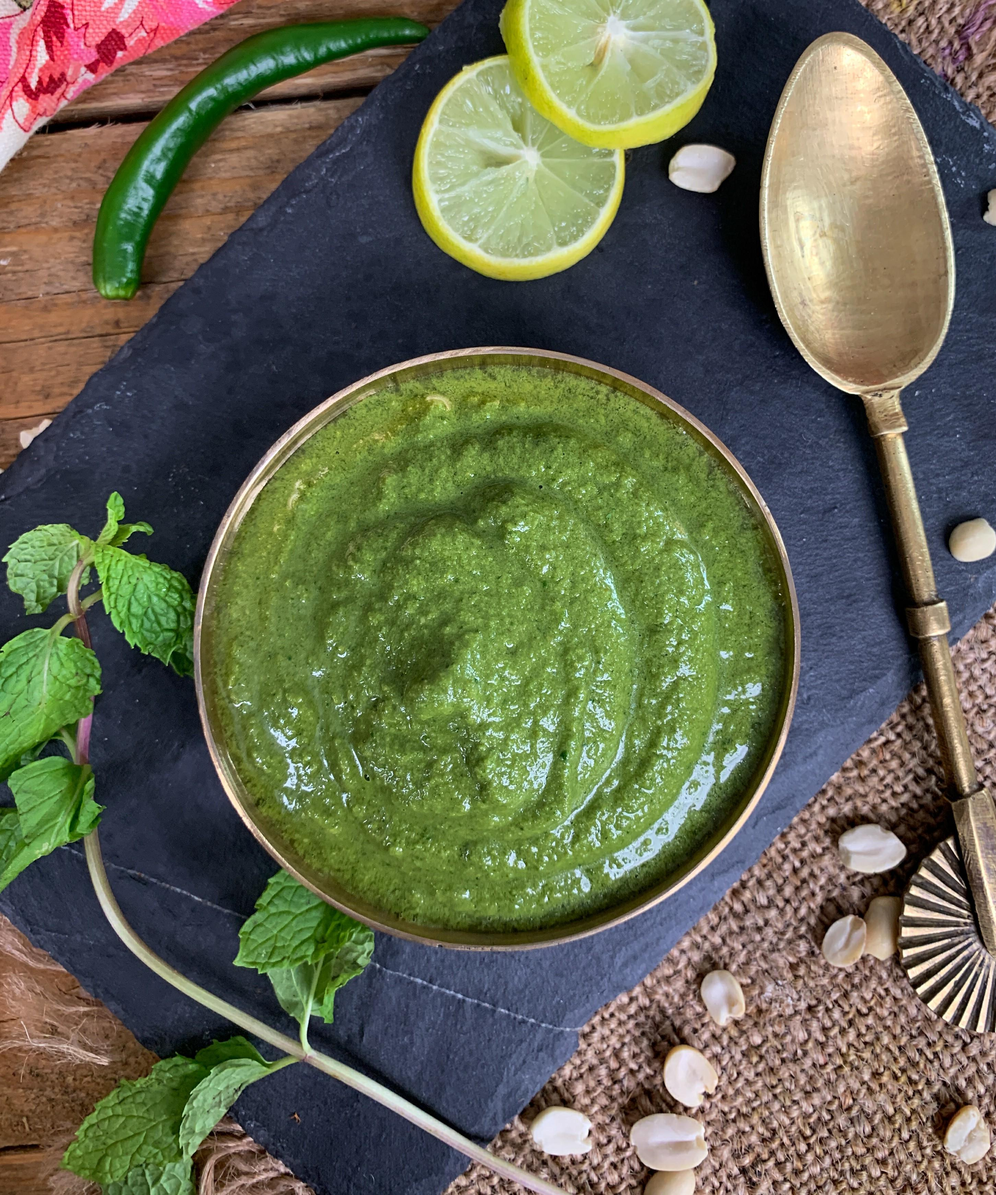GreenChutney: (211, 366, 777, 927)
